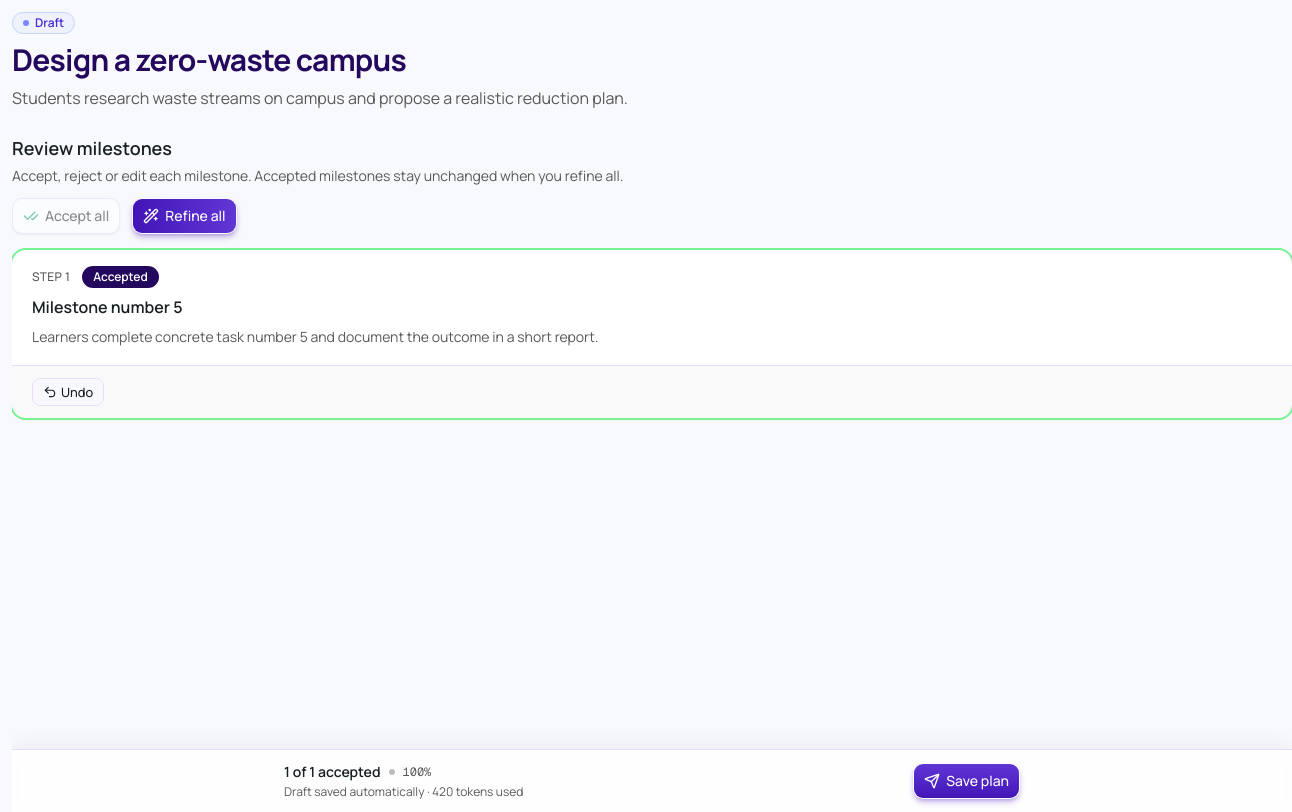
Scenario: PlanEditor › saves the plan and switches to read-only
Step 1. Click the button "Save plan" → [967, 781], box [913,763,1020,799]
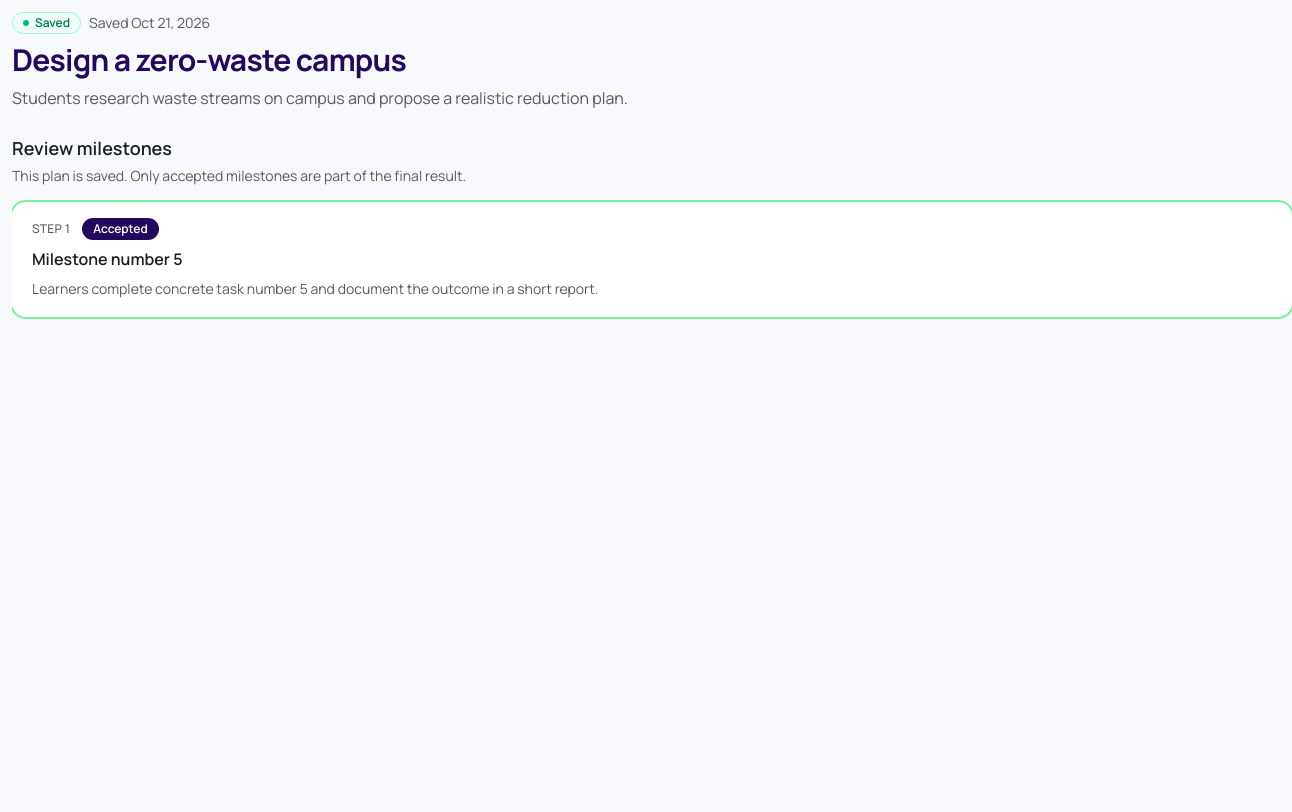
Check: the text "Saved" is shown, box [12,12,81,34]
Check: the button "Undo" is gone
Check: the text "Refine all" is gone
